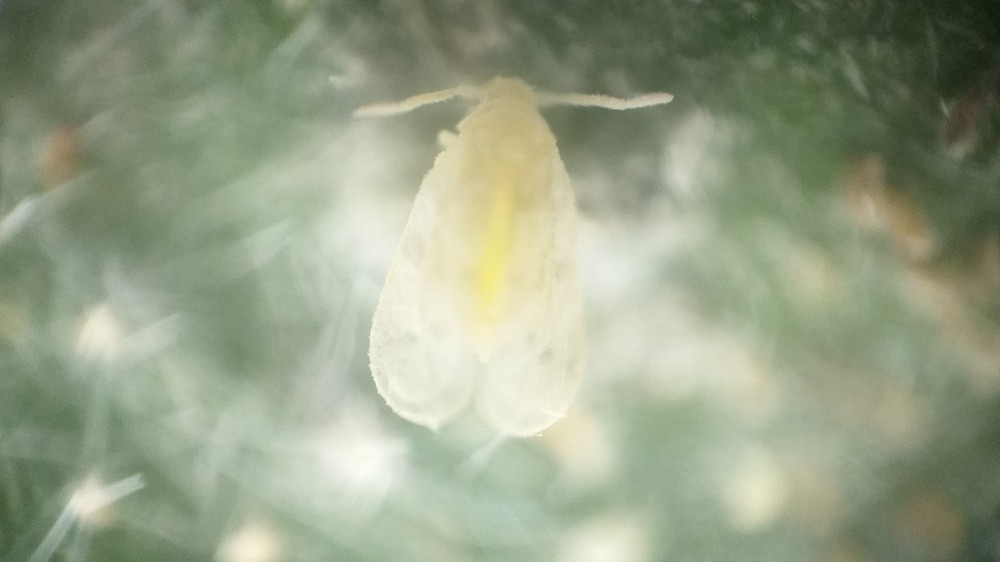Mosca Blanca: (311, 56, 705, 457)
